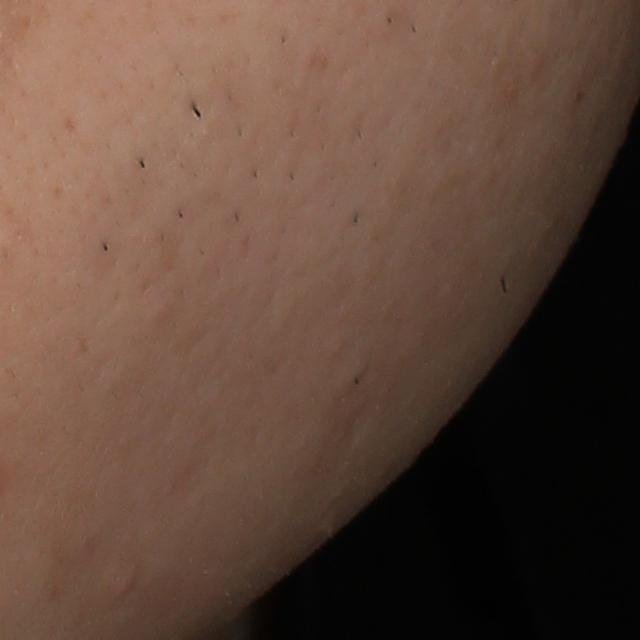papule: (116, 576, 138, 596)
